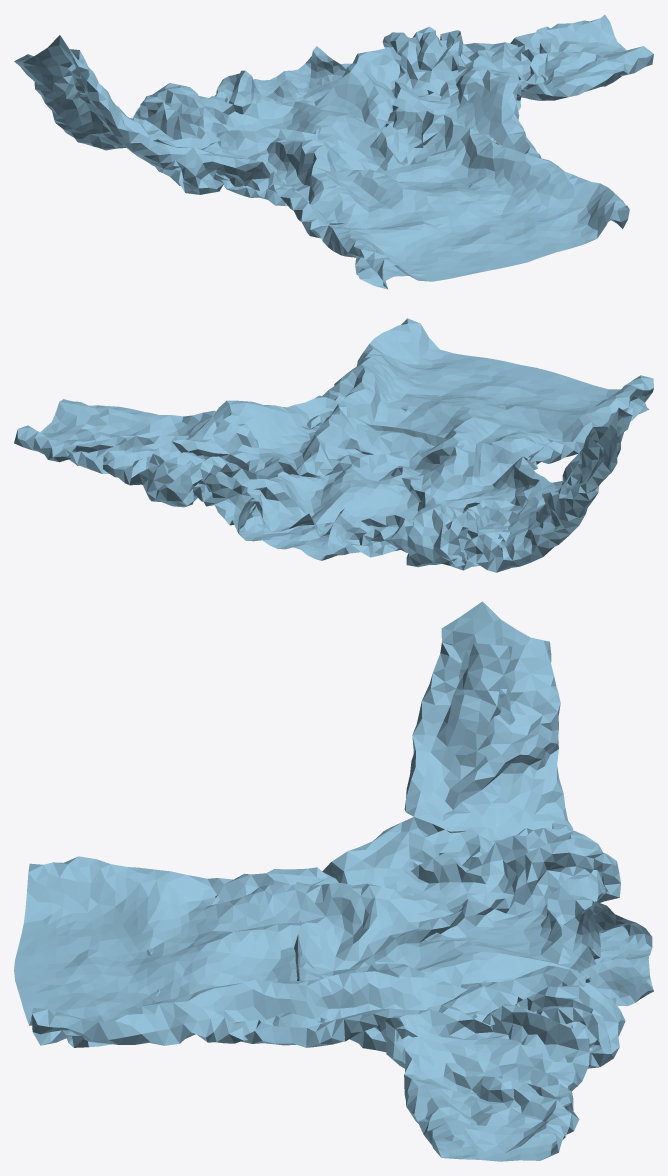
File: frame_04.glb
The picture shows the model from 3 angles, top to bottom: view 1: azimuth 30°, elevation 25°; view 2: azimuth 150°, elevation 25°; view 3: azimuth 270°, elevation 25°; orthographic projection. The views are drawn at different scales.
Visible parts, largest first — view 1: frame_04.obj; view 2: frame_04.obj; view 3: frame_04.obj.
Boxes of the visible parts, left/top/right/bottom form: frame_04.obj: left=14, top=14, right=653, bottom=289; frame_04.obj: left=14, top=318, right=653, bottom=572; frame_04.obj: left=14, top=601, right=653, bottom=1161.
Size of the model in its own units: 1.84 by 0.4974 by 1.35.
